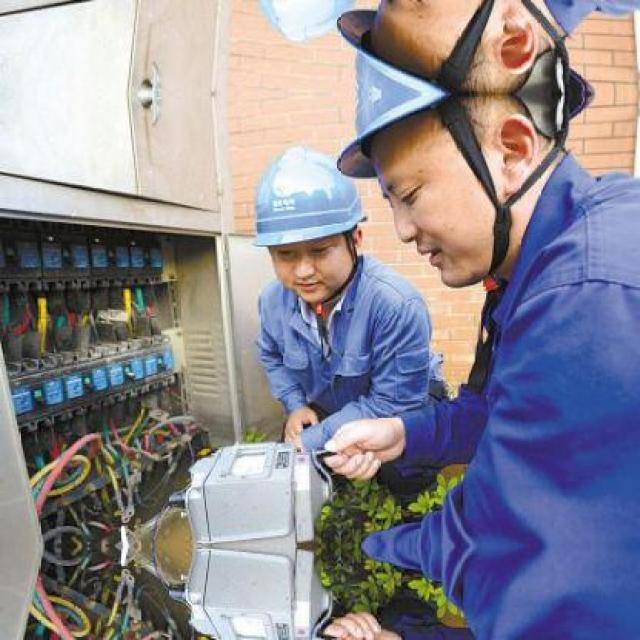helmet: (341, 94, 564, 282), (243, 133, 374, 307), (340, 0, 565, 96), (243, 0, 375, 56)
